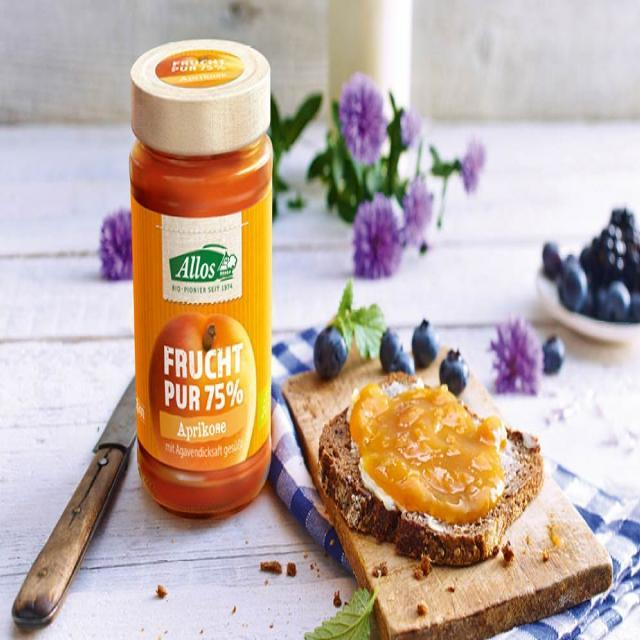Spread: (348, 378, 510, 520)
